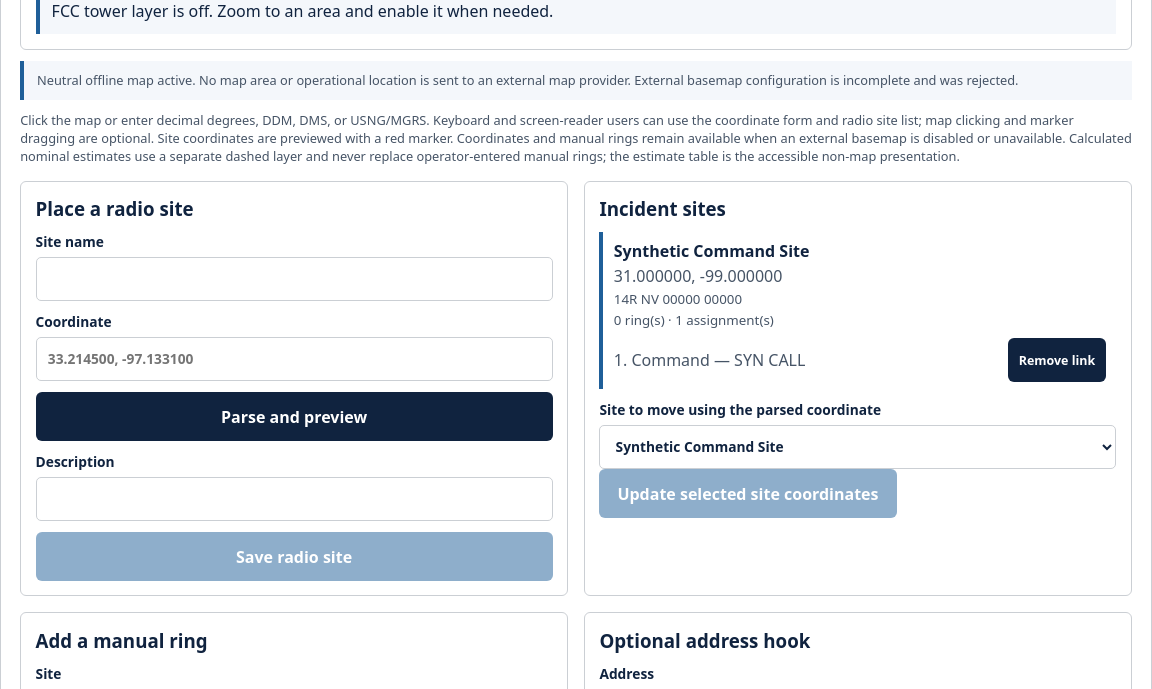
Test case: removes a confirmed assignment link and retains both linked records
The width and height of the screenshot is (1152, 689).
(page scrolled)
Click the button with aria-label "Remove 1. Command — SYN CALL from Synthetic Command Site" at {"x": 1057, "y": 360}, box [1008,338,1106,382]
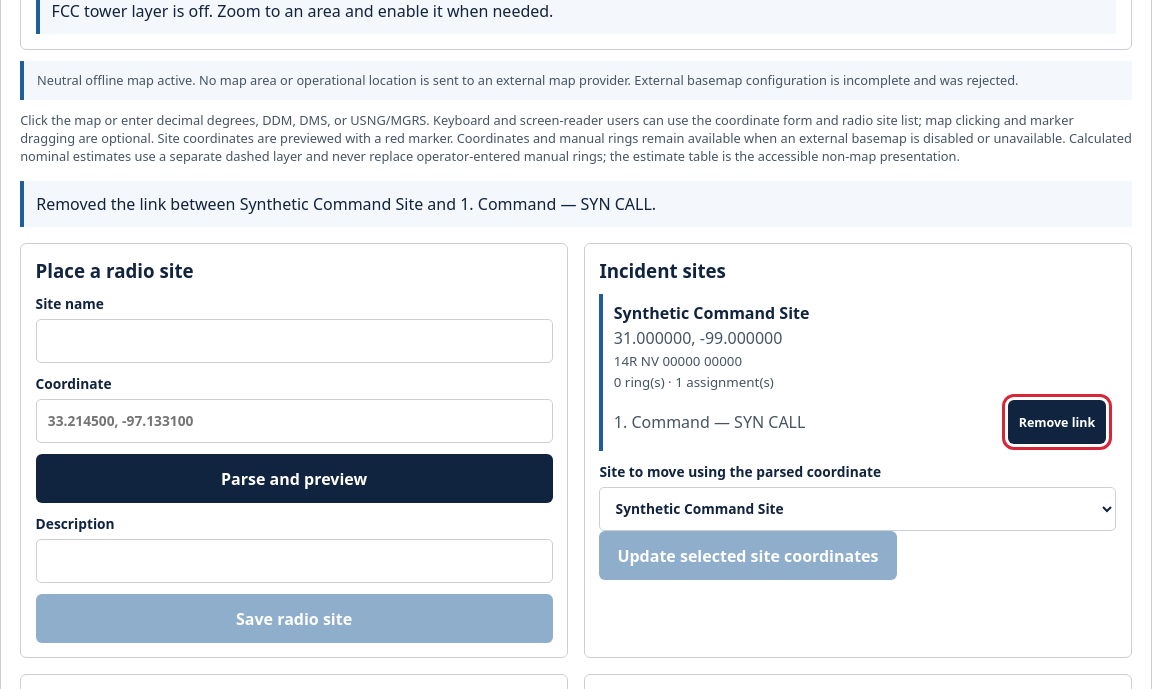
Expected: the message reads "Removed the link between Synthetic Command Site and 1. Command — SYN CALL.", [36,193,656,215]
